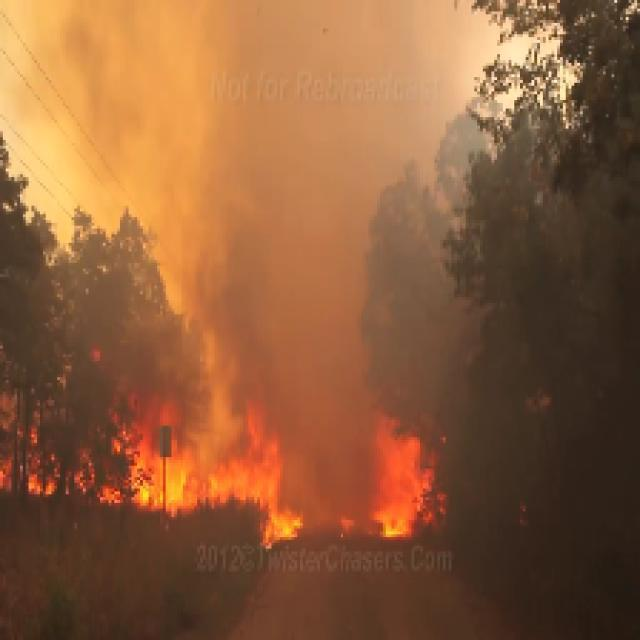Fire: (106, 406, 457, 554)
Smoke: (202, 68, 352, 352)
